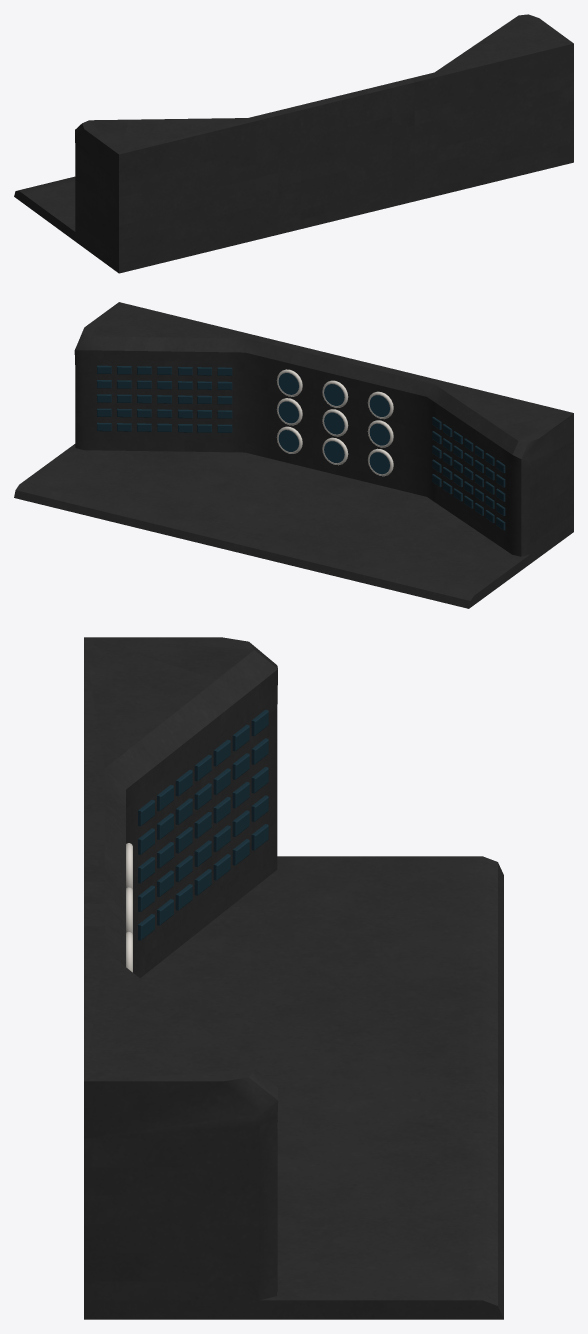
File: desk.fbx
3 renders of one model, top to bottom at view 1: azimuth 30°, elevation 25°; view 2: azimuth 150°, elevation 25°; view 3: azimuth 270°, elevation 25°, orthographic. The views are drawn at different scales.
Parts seen in each view (by area): view 1: control_panel, desk1; view 2: control_panel, desk1, meter; view 3: desk1, control_panel, meter.
Boxes of the visible parts, box(x1,y1,x2,y2) form: control_panel: box(75, 14, 573, 266); desk1: box(14, 153, 573, 273); control_panel: box(74, 302, 573, 556); desk1: box(14, 444, 573, 608); meter: box(276, 369, 393, 476); desk1: box(84, 856, 503, 1319); control_panel: box(84, 637, 278, 1309); meter: box(126, 843, 132, 972).
Bounding box in the file's own units: 250 × 62.5 × 100.
